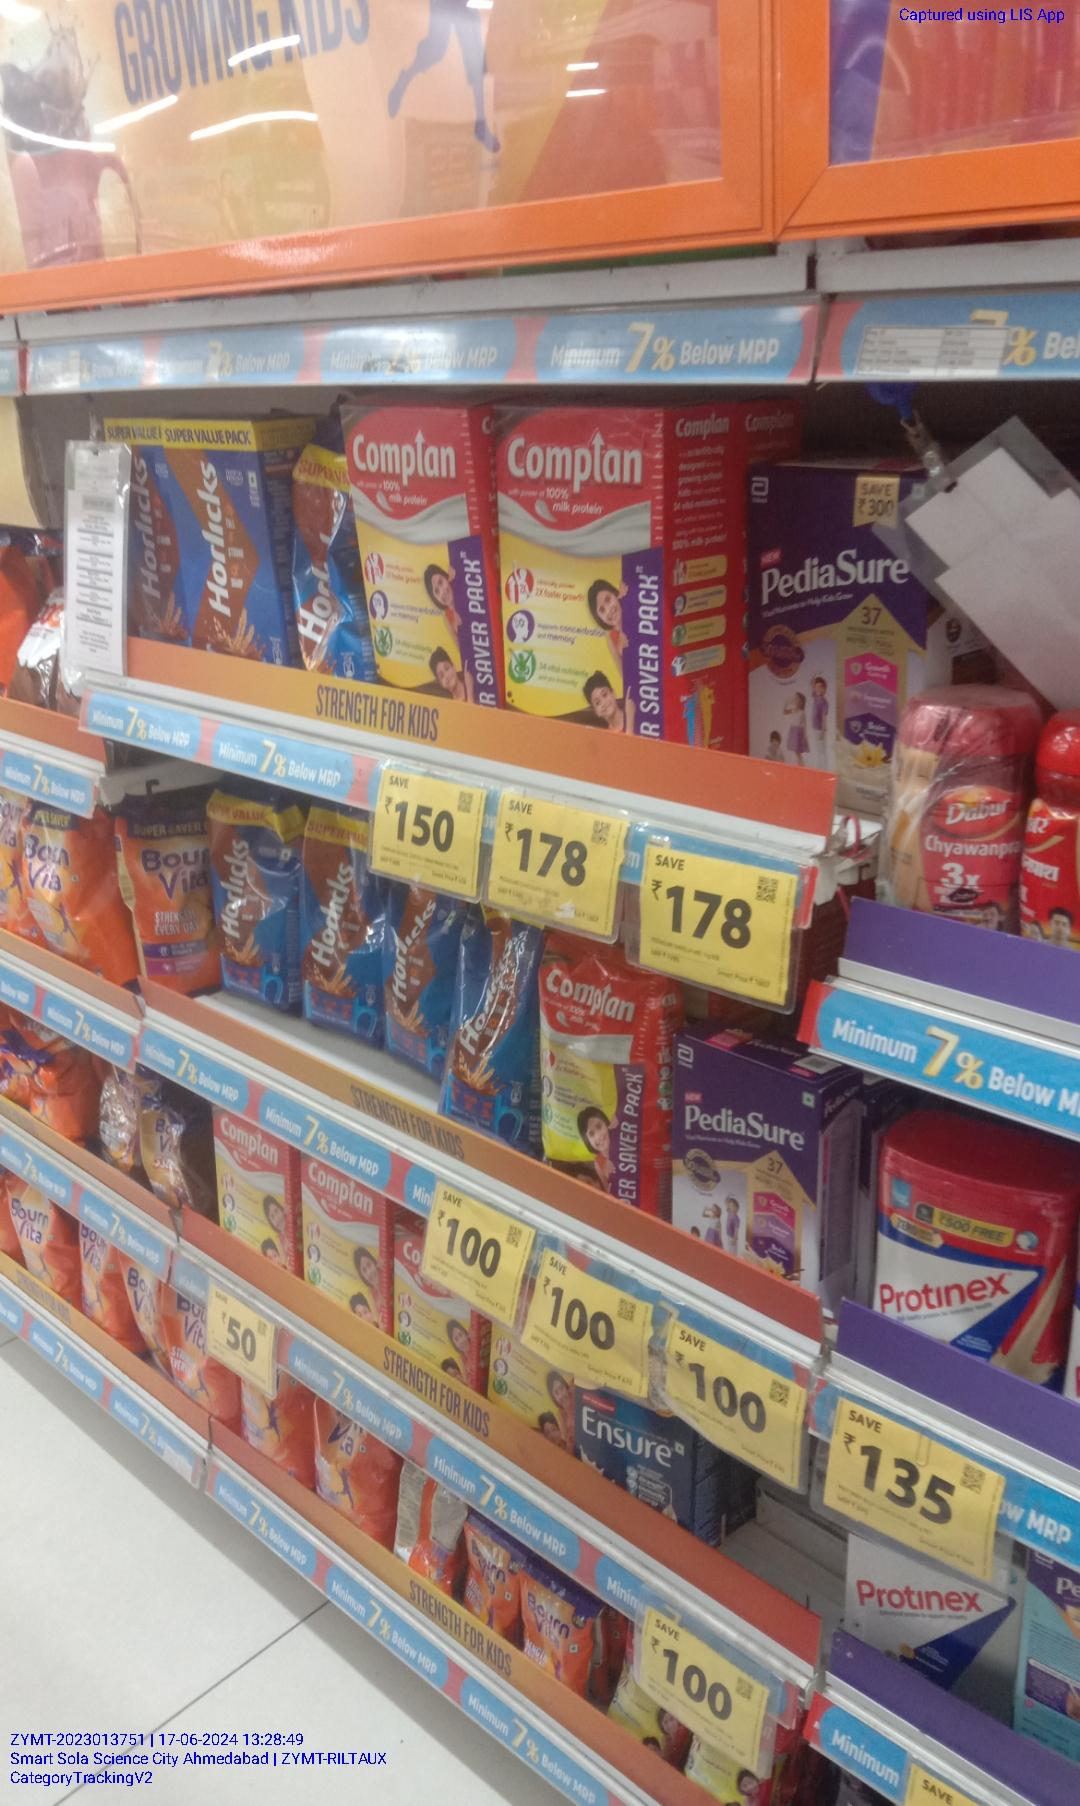COMPLAN_CHOCOLATE_1_KG_PACK: (499, 401, 674, 737), (356, 406, 495, 699)
COMPLAN_RC_POUCH_700_GMS_12: (540, 956, 672, 1206)
HORLICK_CHOCOLATE_1_KG_JAR: (166, 425, 275, 661)
HORLICK_CHOCOLATE_750_G_POUCH: (298, 806, 384, 1039), (207, 796, 293, 1001), (464, 900, 532, 1147), (386, 881, 459, 1089)
PROTINEX_VANILLA_400_G_JAR: (876, 1123, 1080, 1366)
